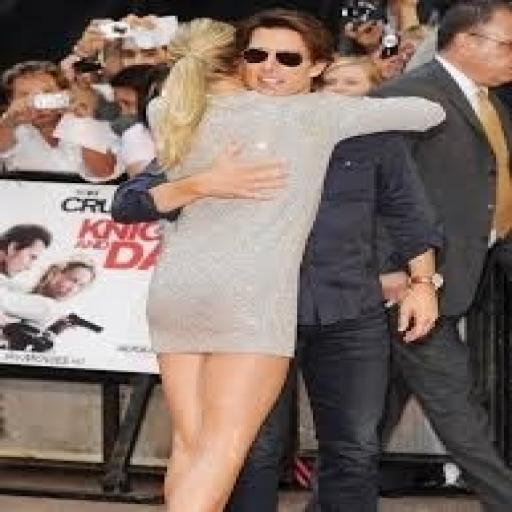hugging: (109, 8, 451, 510)
